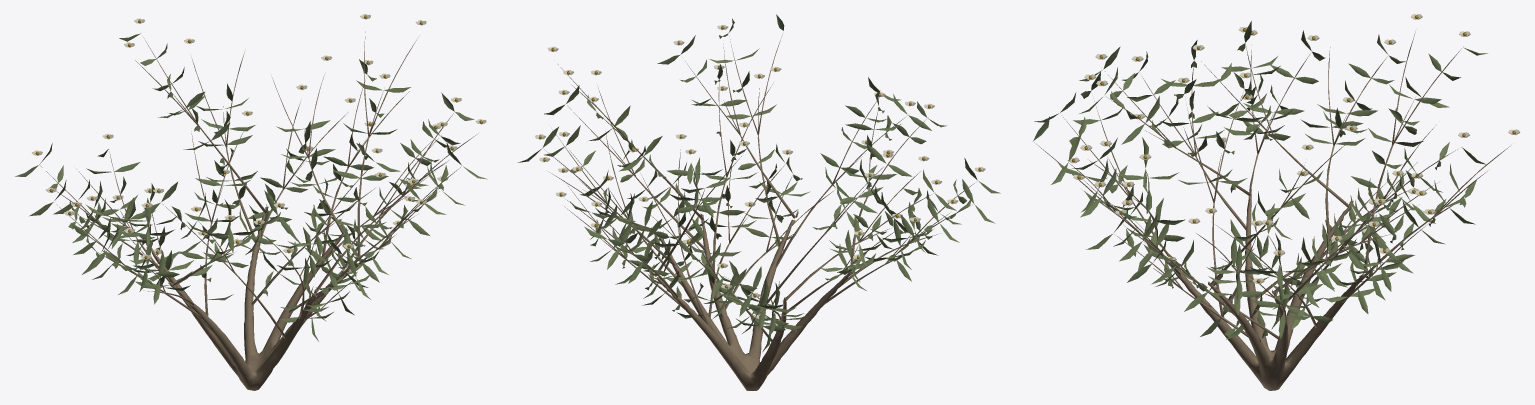
File: Ciste_2_Niveau1.fbx
3 views of the same model, side by side, from view 1: azimuth 30°, elevation 25°; view 2: azimuth 150°, elevation 25°; view 3: azimuth 270°, elevation 25° (orthographic). The views are drawn at different scales.
Visible parts, largest first — view 1: Ciste_2_Niveau1_Jeu; view 2: Ciste_2_Niveau1_Jeu; view 3: Ciste_2_Niveau1_Jeu.
Boxes of the visible parts, x1,y1,x2,y2 form: Ciste_2_Niveau1_Jeu: [15, 14, 487, 390]; Ciste_2_Niveau1_Jeu: [517, 14, 1000, 390]; Ciste_2_Niveau1_Jeu: [1033, 14, 1520, 390].
Size of the model in its own units: 99.26 by 69.4 by 90.17.
